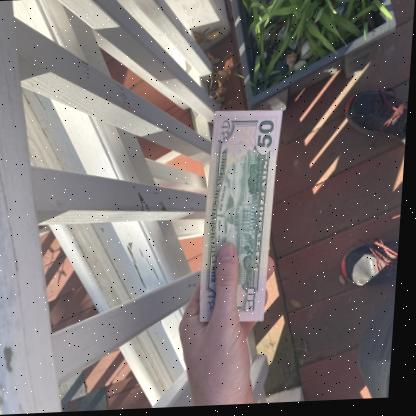fifty-back: (199, 107, 283, 322)
